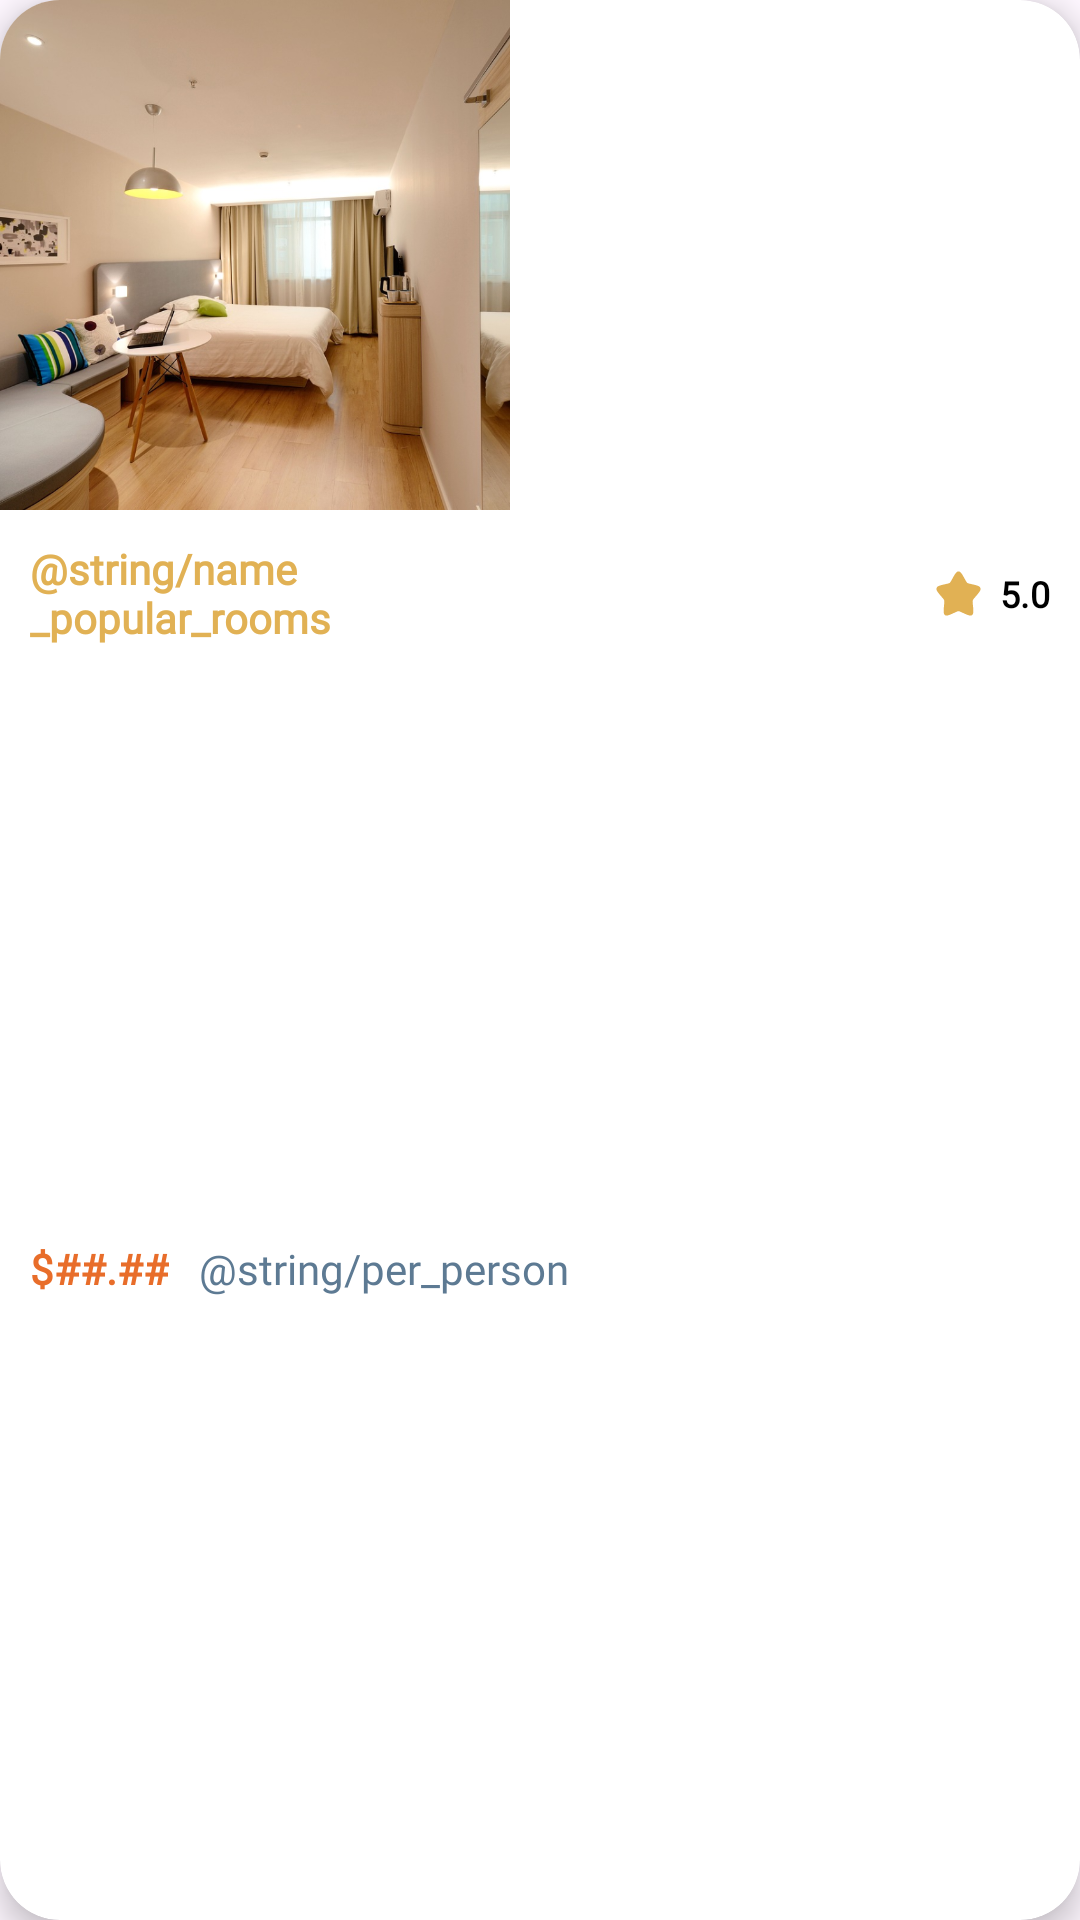

Icon click points for this 1080×1920 phone screenshot, format (x,y):
estrella llena: (958,593)
